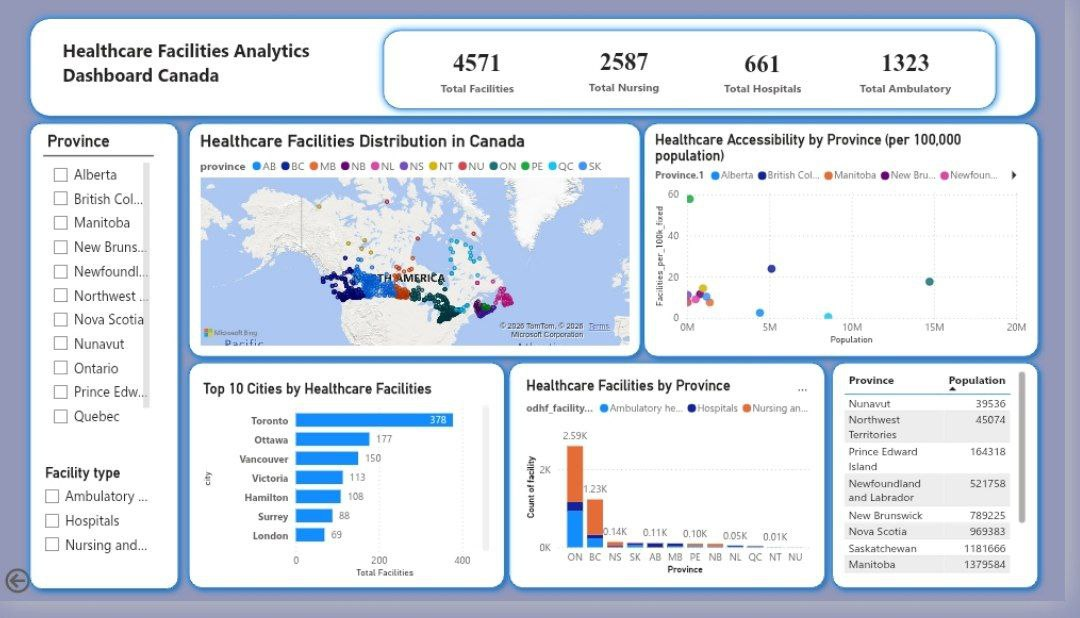

What the dashboard file says about the page in this screenshot:
{"tool":"powerbi","page":{"name":"Страница 1","canvas":[1280,720],"ordinal":0},"visuals":[{"type":"actionButton","box":[3.9,680.7,51.1,39.3],"z":0},{"type":"shape","box":[30.2,15.1,1226.2,136.1],"z":1000},{"type":"shape","box":[220.1,141.1,561,299],"z":2000},{"type":"map","title":"Healthcare Facilities Distribution in Canada","fields":{"Y":["clean_healthcare_facilities.latitude"],"X":["clean_healthcare_facilities.longitude"],"Series":["clean_healthcare_facilities.province"]},"box":[238.3,162.3,526.3,259.2],"z":3000},{"type":"shape","box":[451.4,28.9,754.2,112.9],"z":4000},{"type":"card","fields":{"Values":["clean_healthcare_facilities.Total Facilities"]},"box":[506.6,45.8,136.1,77.2],"z":5000},{"type":"shape","box":[30.2,141.1,196.5,577.8],"z":6000},{"type":"slicer","title":"Province","fields":{"Values":["merged_data.Province.1"]},"box":[55.4,162.9,132.7,361.2],"z":7000},{"type":"slicer","fields":{"Values":["clean_healthcare_facilities.odhf_facility_type"]},"box":[43.7,557.7,144.5,142.8],"z":8000},{"type":"card","fields":{"Values":["clean_healthcare_facilities.Total Hospitals"]},"box":[856.1,49.7,124.4,70.7],"z":9000},{"type":"card","fields":{"Values":["clean_healthcare_facilities.Total Nursing"]},"box":[686,47.1,129.6,73.3],"z":10000},{"type":"card","fields":{"Values":["clean_healthcare_facilities.Total Ambulatory"]},"box":[1010.2,45.4,158.3,77.1],"z":11000},{"type":"textbox","box":[71.5,41.5,311.8,78.7],"z":12000},{"type":"shape","box":[602.8,429.4,397.8,289],"z":13000},{"type":"columnChart","title":"Healthcare Facilities by Province","fields":{"Category":["clean_healthcare_facilities.province"],"Y":["CountNonNull(clean_healthcare_facilities.facility_name)"],"Series":["clean_healthcare_facilities.odhf_facility_type"]},"box":[628.4,456.9,352.1,239.6],"z":14000},{"type":"shape","box":[220.2,429.4,397.8,289],"z":15000},{"type":"barChart","title":"Top 10 Cities by Healthcare Facilities","fields":{"Category":["clean_healthcare_facilities.city"],"Y":["clean_healthcare_facilities.Total Facilities"]},"box":[239.6,460.8,353.5,239.6],"z":16000},{"type":"shape","box":[991,429.4,265.6,289],"z":17000},{"type":"tableEx","fields":{"Values":["merged_data.Province.1","merged_data.Population"]},"box":[1010.2,440.4,228.5,256],"z":18000},{"type":"shape","box":[764.3,141.1,492.2,299],"z":19000},{"type":"scatterChart","title":"Healthcare Accessibility by Province (per 100,000 population)","fields":{"X":["merged_data.Population"],"Y":["merged_data.Facilities_per_100k"],"Series":["merged_data.Province.1"]},"box":[781.8,162.4,455.6,258.8],"z":20000}]}

Visuals, with their boxes in screenshot pixels (x1, y1, x2, y2), scaled from the page's 1280x720 canvas onto the 1080x618 screenshot:
actionButton: Rect(3, 584, 46, 617)
shape: Rect(25, 13, 1060, 130)
shape: Rect(186, 121, 659, 378)
"Healthcare Facilities Distribution in Canada" map: Rect(201, 139, 645, 362)
shape: Rect(381, 25, 1017, 122)
card - clean_healthcare_facilities.Total Facilities: Rect(427, 39, 542, 106)
shape: Rect(25, 121, 191, 617)
"Province" slicer: Rect(47, 140, 159, 450)
slicer - clean_healthcare_facilities.odhf_facility_type: Rect(37, 479, 159, 601)
card - clean_healthcare_facilities.Total Hospitals: Rect(722, 43, 827, 103)
card - clean_healthcare_facilities.Total Nursing: Rect(579, 40, 688, 103)
card - clean_healthcare_facilities.Total Ambulatory: Rect(852, 39, 986, 105)
textbox: Rect(60, 36, 323, 103)
shape: Rect(509, 369, 844, 617)
"Healthcare Facilities by Province" columnChart: Rect(530, 392, 827, 598)
shape: Rect(186, 369, 521, 617)
"Top 10 Cities by Healthcare Facilities" barChart: Rect(202, 396, 500, 601)
shape: Rect(836, 369, 1060, 617)
tableEx - merged_data.Province.1 x merged_data.Population: Rect(852, 378, 1045, 598)
shape: Rect(645, 121, 1060, 378)
"Healthcare Accessibility by Province (per 100,000 population)" scatterChart: Rect(660, 139, 1044, 362)
